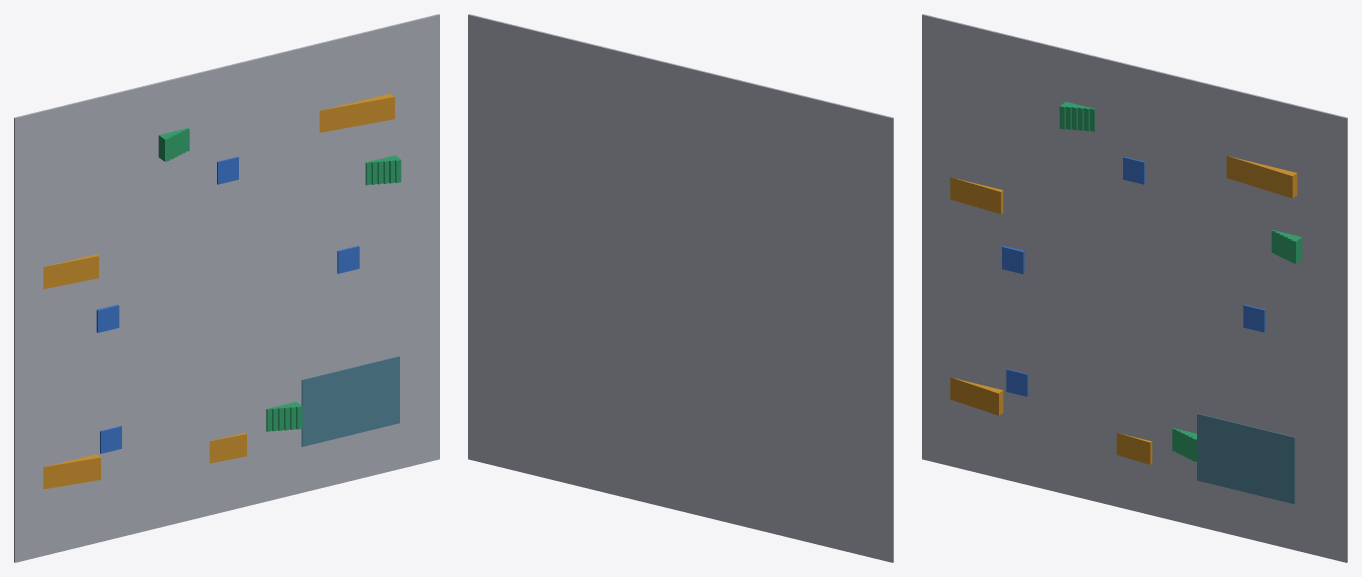
The model's file is whitebox_stair_test.obj.
The picture shows the model from 3 angles, left to right: view 1: azimuth 30°, elevation 25°; view 2: azimuth 150°, elevation 25°; view 3: azimuth 330°, elevation 25°; orthographic projection.
Parts seen in each view (by area): view 1: floor, floor_2_south_landing, ramp_northeast_4m_45cm, ramp_southwest_3m_45cm, ramp_west_3m_25cm, ramp_south_2m_18cm, single_step_15cm_west, single_step_10cm_east, single_step_10cm_north; view 2: floor; view 3: floor, floor_2_south_landing, ramp_northeast_4m_45cm, ramp_southwest_3m_45cm, ramp_west_3m_25cm, ramp_south_2m_18cm, single_step_15cm_west, single_step_10cm_east, single_step_08cm_southwest, single_step_10cm_north.
Boxes of the visible parts, x1=… form: floor: x1=14, y1=14, x2=439, y2=562; floor_2_south_landing: x1=301, y1=356, x2=399, y2=446; ramp_northeast_4m_45cm: x1=319, y1=93, x2=394, y2=132; ramp_southwest_3m_45cm: x1=43, y1=454, x2=100, y2=489; ramp_west_3m_25cm: x1=43, y1=254, x2=98, y2=289; ramp_south_2m_18cm: x1=209, y1=433, x2=246, y2=463; single_step_15cm_west: x1=96, y1=304, x2=119, y2=332; single_step_10cm_east: x1=337, y1=246, x2=359, y2=273; single_step_10cm_north: x1=217, y1=156, x2=238, y2=184; floor: x1=468, y1=14, x2=893, y2=562; floor: x1=922, y1=14, x2=1347, y2=562; floor_2_south_landing: x1=1197, y1=413, x2=1295, y2=504; ramp_northeast_4m_45cm: x1=1226, y1=156, x2=1297, y2=198; ramp_southwest_3m_45cm: x1=950, y1=377, x2=1003, y2=415; ramp_west_3m_25cm: x1=950, y1=177, x2=1003, y2=214; ramp_south_2m_18cm: x1=1116, y1=433, x2=1152, y2=464; single_step_15cm_west: x1=1002, y1=246, x2=1024, y2=273; single_step_10cm_east: x1=1243, y1=304, x2=1265, y2=332; single_step_08cm_southwest: x1=1006, y1=369, x2=1028, y2=396; single_step_10cm_north: x1=1123, y1=156, x2=1144, y2=184.
Size of the model in its own units: 24 by 24 by 0.7.
